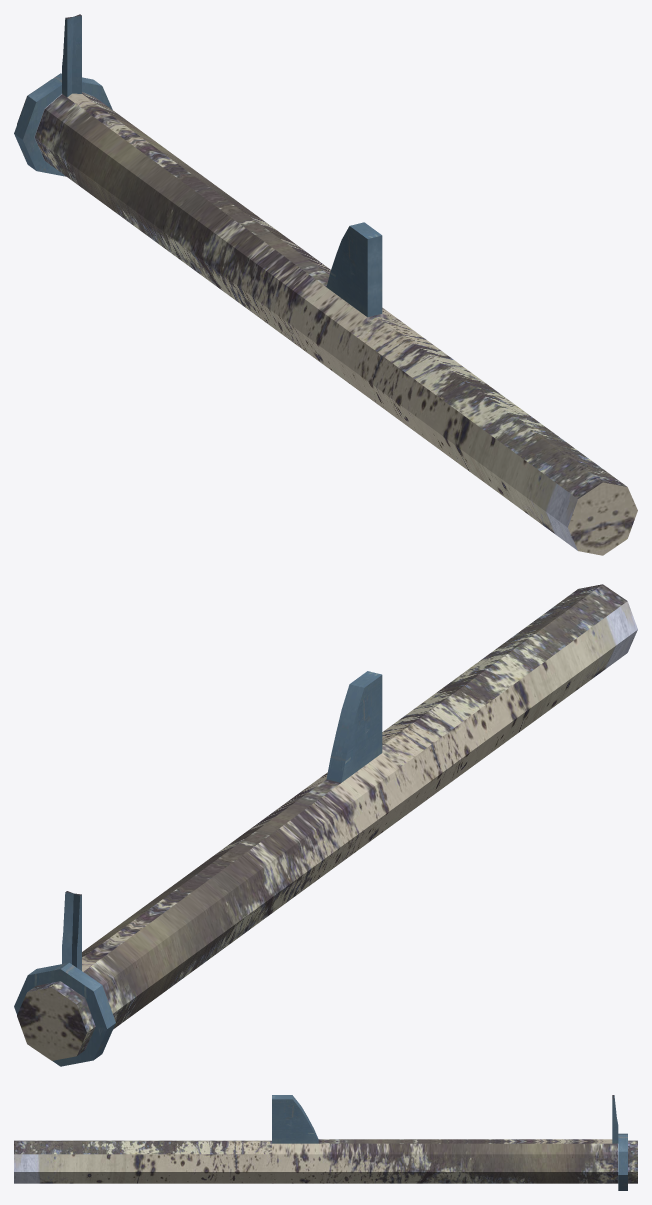
The model's file is u_rocket_gun.fbx.
The picture shows the model from 3 angles, top to bottom: view 1: azimuth 30°, elevation 25°; view 2: azimuth 150°, elevation 25°; view 3: azimuth 270°, elevation 25°; orthographic projection. The views are drawn at different scales.
Visible parts, largest first — view 1: RocketGun; view 2: RocketGun; view 3: RocketGun.
Boxes of the visible parts, left/top/right/bottom form: RocketGun: left=14, top=14, right=637, bottom=555; RocketGun: left=14, top=584, right=637, bottom=1066; RocketGun: left=14, top=1095, right=637, bottom=1190.
Bounding box in the file's own units: 0.9901 × 1.66 × 10.13.
